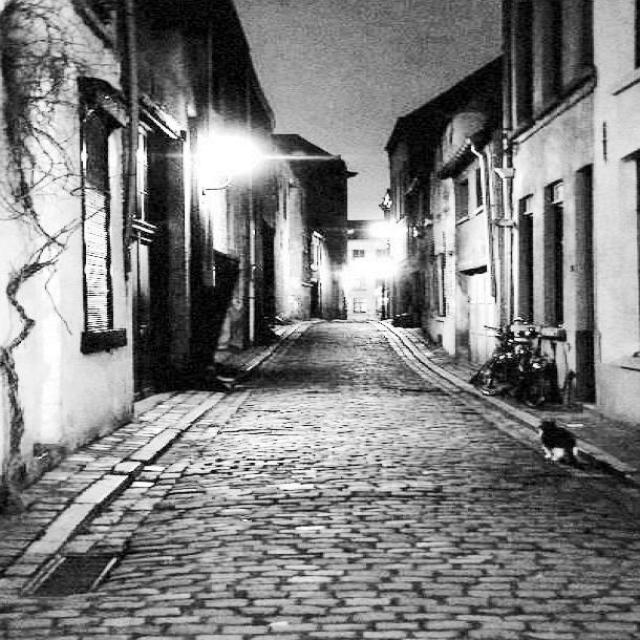Cat: (536, 416, 578, 466)
Motorcycle: (472, 322, 566, 408)
